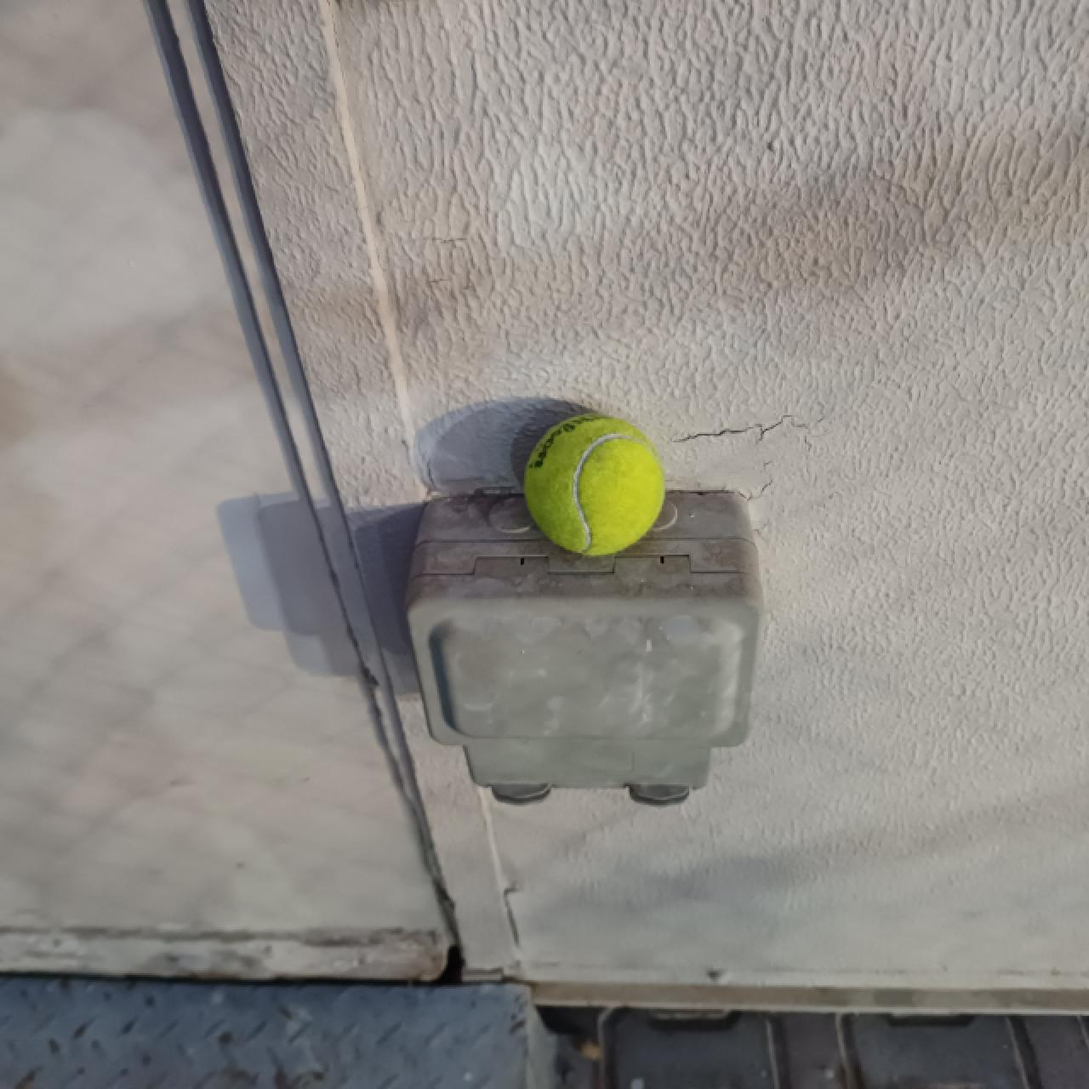tennis-ball: (523, 412, 665, 558)
